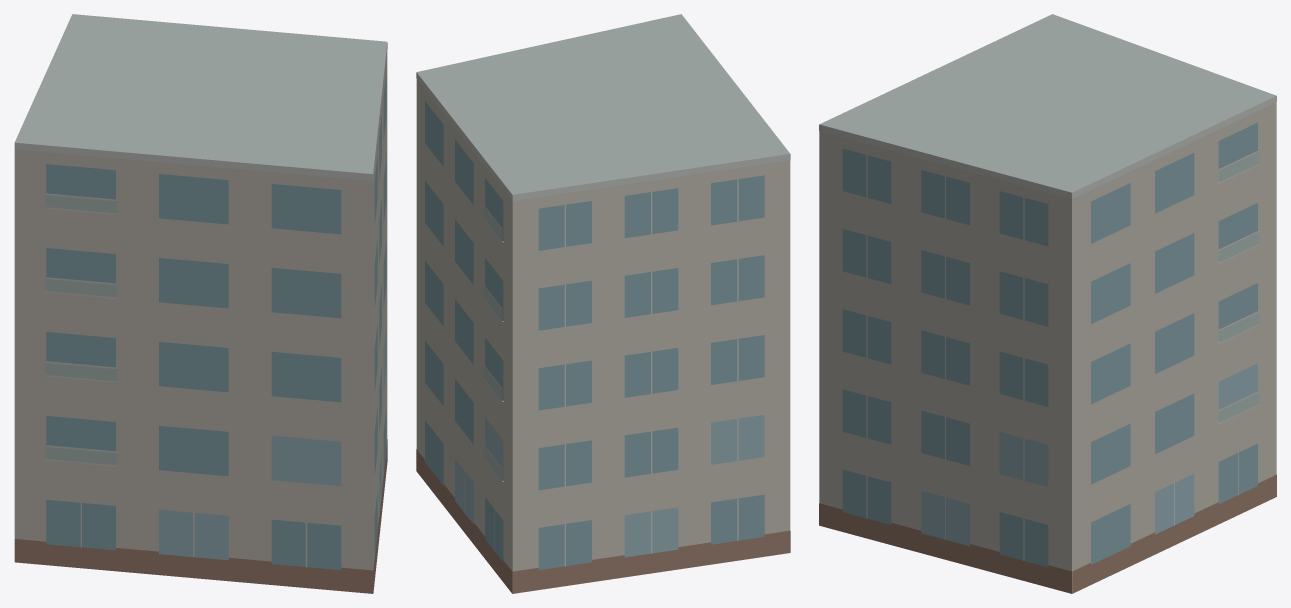
The model's file is survey-upis-32962036.glb.
3 renders of one model, left to right at view 1: azimuth 30°, elevation 25°; view 2: azimuth 150°, elevation 25°; view 3: azimuth 270°, elevation 25°, orthographic. The views are drawn at different scales.
Parts seen in each view (by area): view 1: survey-upis-32962036.tmp; view 2: survey-upis-32962036.tmp; view 3: survey-upis-32962036.tmp.
Boxes of the visible parts, <box> form: survey-upis-32962036.tmp: <box>14,14,387,593</box>; survey-upis-32962036.tmp: <box>416,14,790,593</box>; survey-upis-32962036.tmp: <box>819,14,1276,593</box>.
Bounding box in the file's own units: 14.53 × 15.2 × 15.72.
